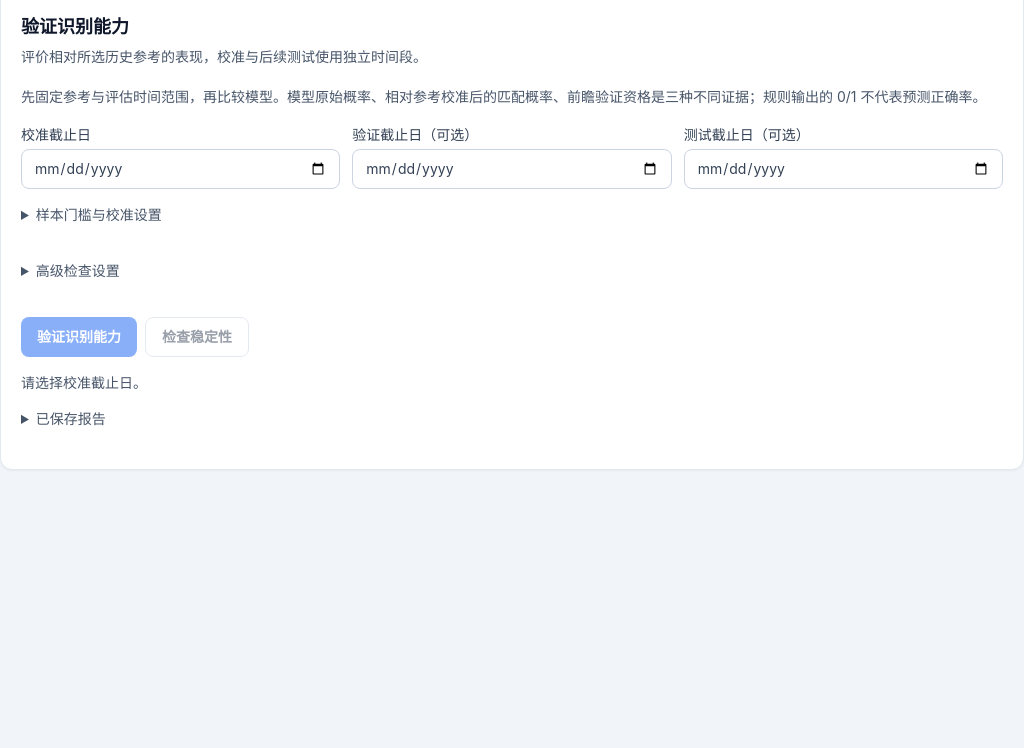
Test case: 验证识别能力 › 错误可直接重试，已保存报告可按精确版本重新载入
Type "2020-12-31" into the date field labelled "校准截止日" at (181, 169), box [21, 149, 340, 189]
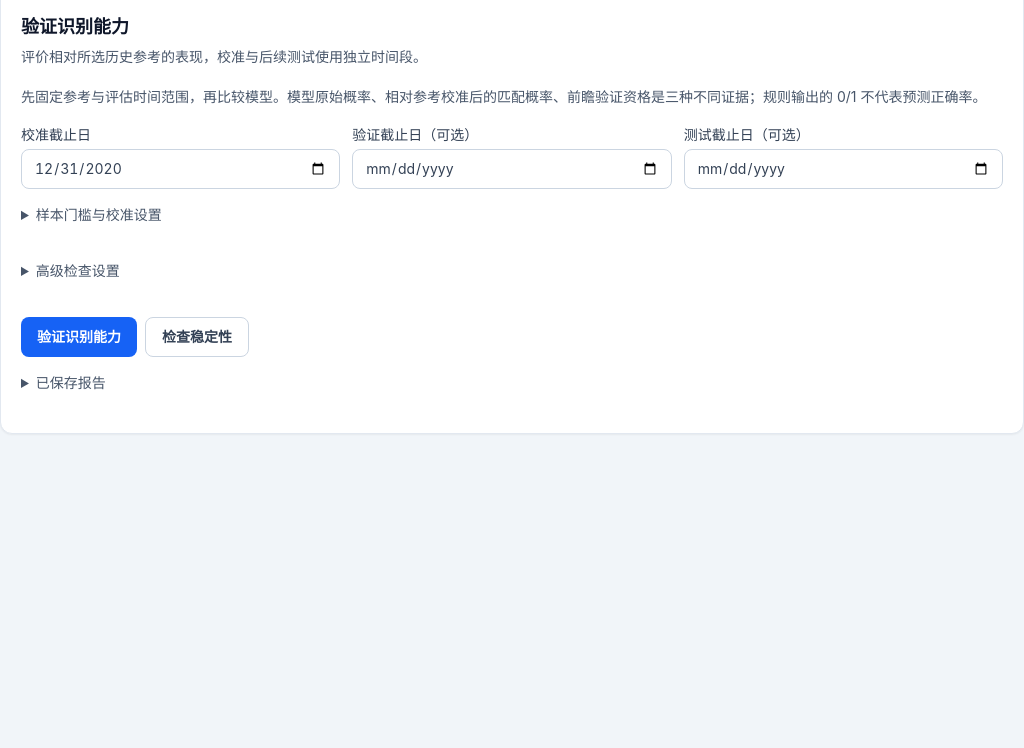
Click the button "验证识别能力" at (79, 337), box [21, 317, 137, 357]
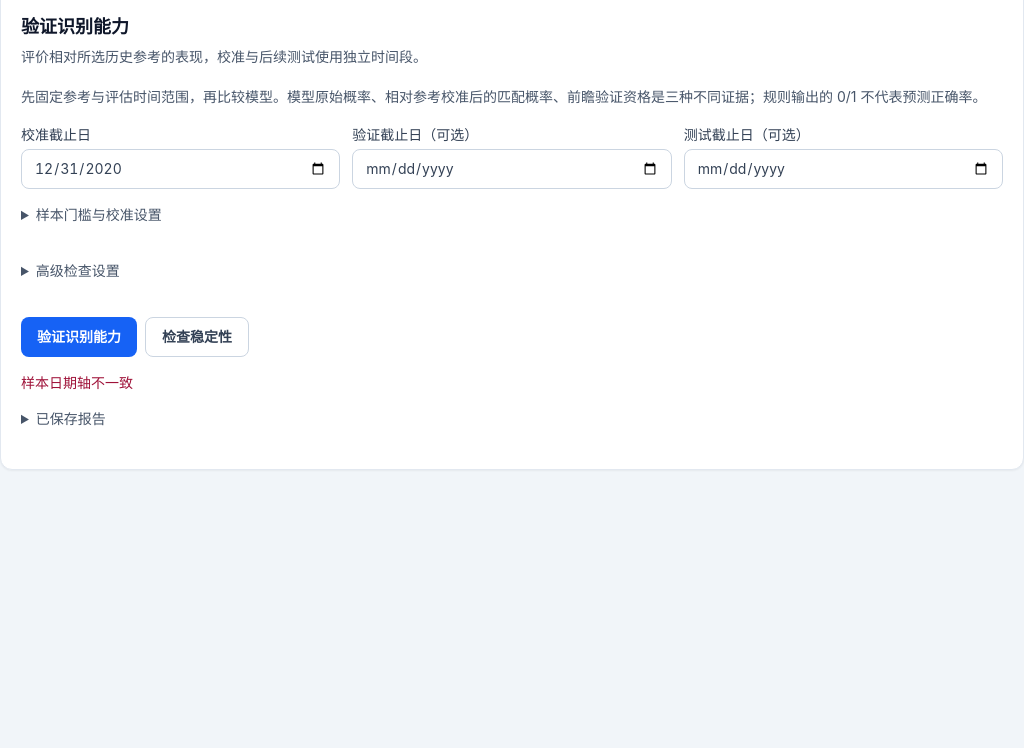
Check: the message reads "样本日期轴不一致", box [21, 374, 133, 391]
Click the button "验证识别能力" at (79, 337), box [21, 317, 137, 357]
(page scrolled)
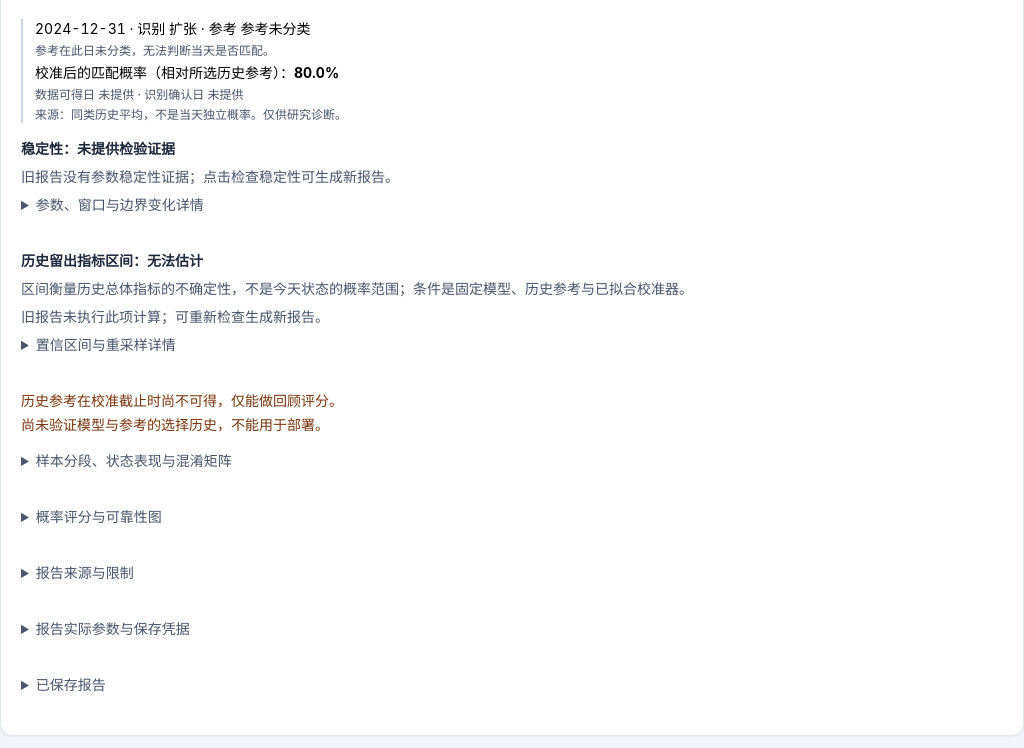
Click the heading "已保存报告" at (71, 684), box [36, 676, 106, 693]
(page scrolled)
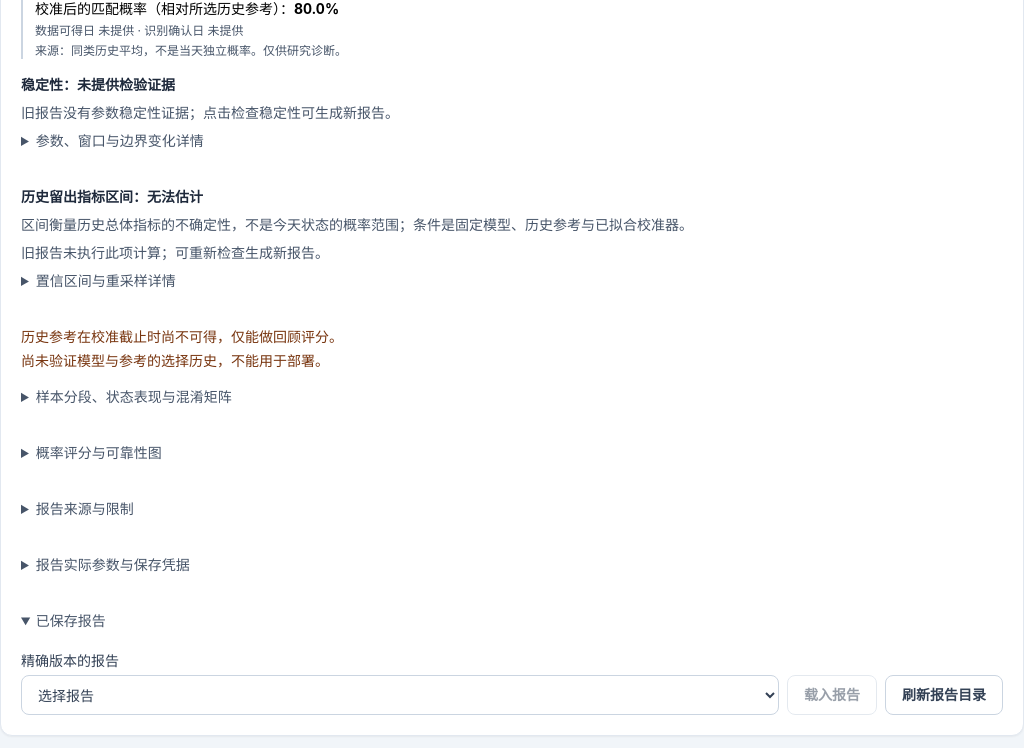
Select "2026-09-14 · 仅回顾评分" in the dropdown named "已保存验证报告" at (400, 695), box [21, 675, 779, 715]
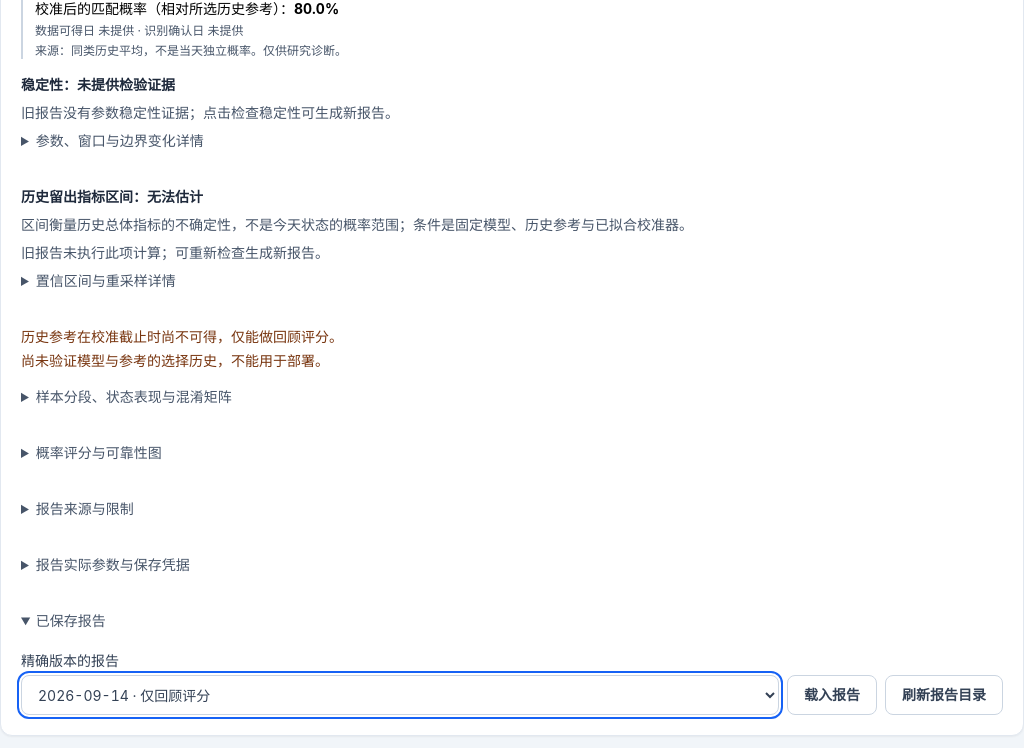
Click the button "载入报告" at (832, 695), box [787, 675, 877, 715]
(page scrolled)
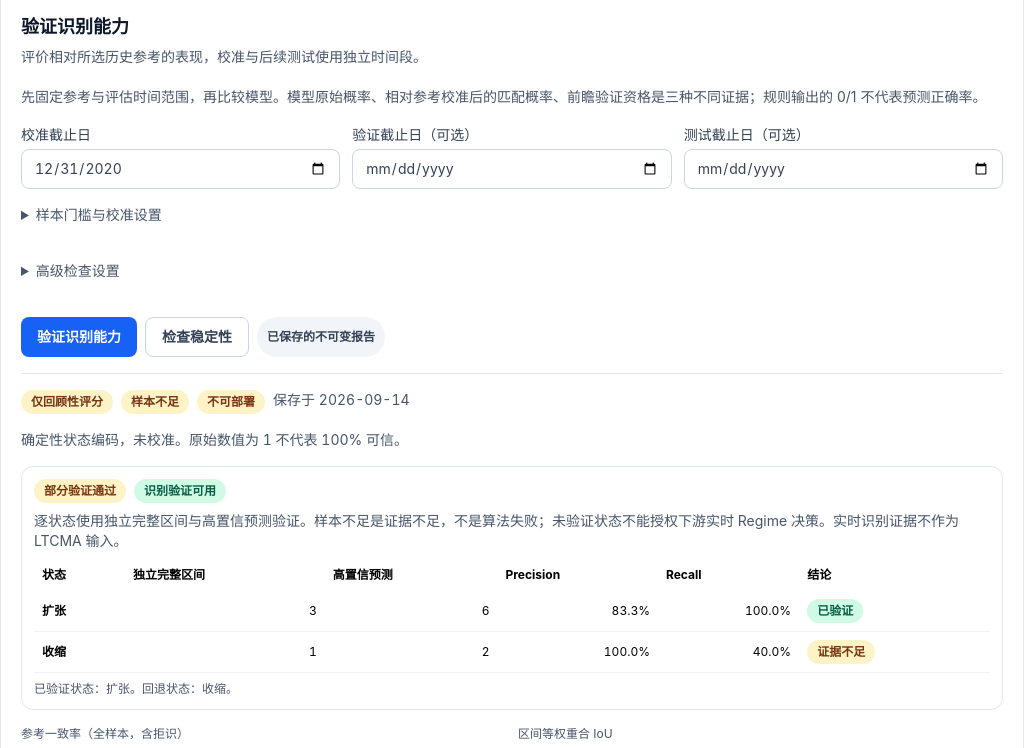
Check: the text "已保存的不可变报告" is shown, box [257, 317, 385, 357]
